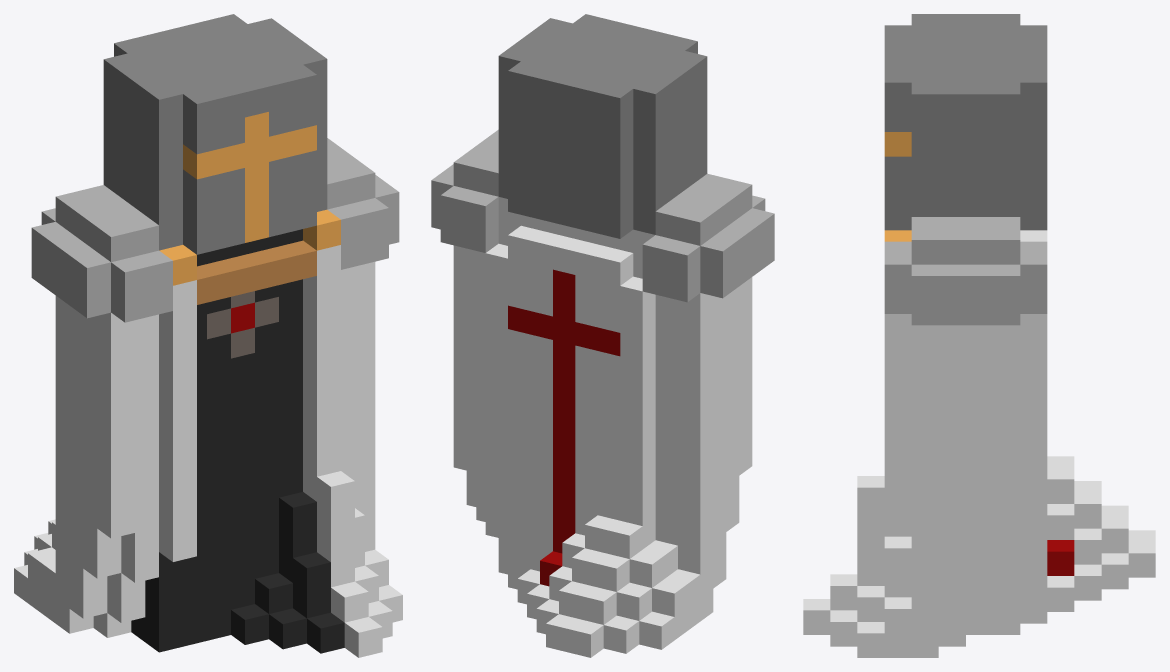
Rendered from Walk2.obj.
3 views of the same model, side by side, from view 1: azimuth 30°, elevation 25°; view 2: azimuth 150°, elevation 25°; view 3: azimuth 270°, elevation 25° (orthographic). The views are drawn at different scales.
Bounding box in the file's own units: 13 × 22 × 13.
Materials: 1 (1 with a texture image).
